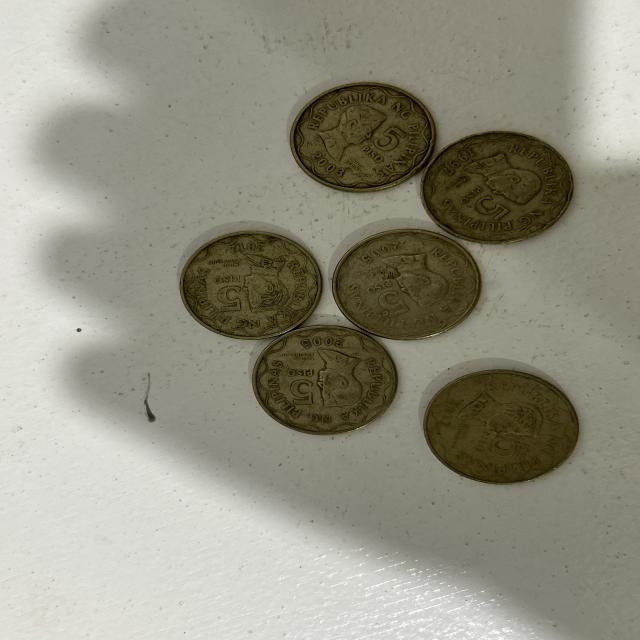5_Old_Front: (462, 422, 538, 472), (456, 179, 519, 231), (279, 356, 326, 415), (360, 279, 421, 324), (352, 121, 406, 166), (208, 272, 254, 322)
